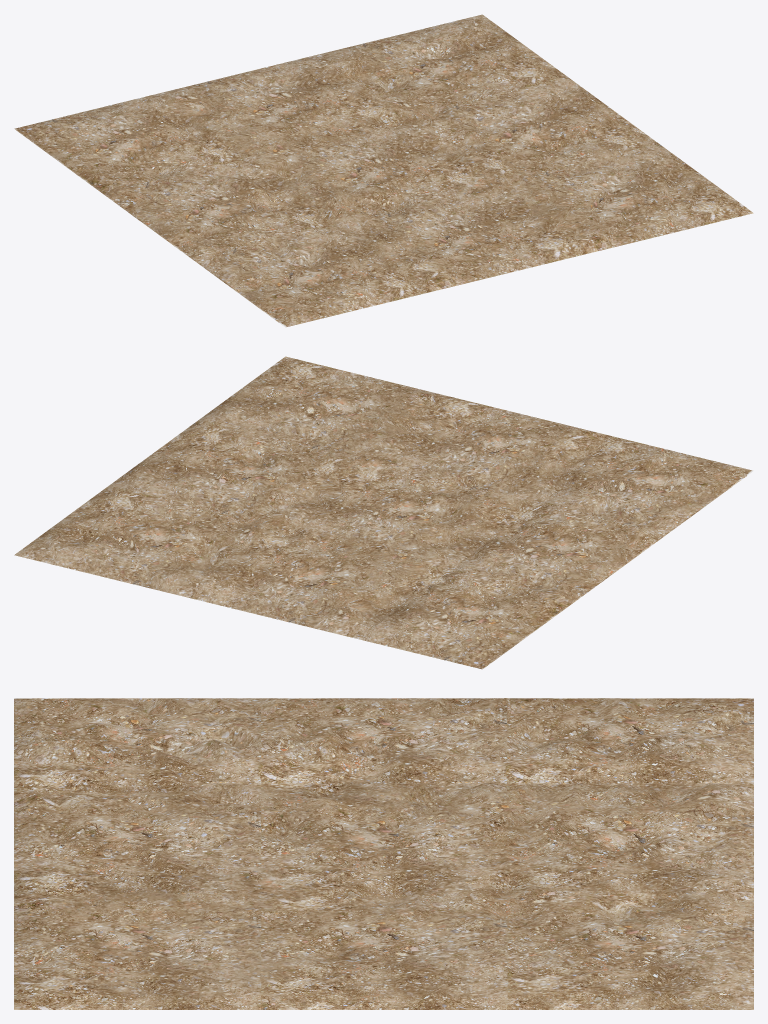
The model's file is wasteland_floor.glb.
The picture shows the model from 3 angles, top to bottom: view 1: azimuth 30°, elevation 25°; view 2: azimuth 150°, elevation 25°; view 3: azimuth 270°, elevation 25°; orthographic projection. The views are drawn at different scales.
Visible parts, largest first — view 1: Object_2; view 2: Object_2; view 3: Object_2.
Boxes of the visible parts, x1,y1,x2,y2 form: Object_2: (14,14,753,327); Object_2: (14,356,753,669); Object_2: (14,698,753,1009).
Size of the model in its own units: 23.9 by 0.7405 by 23.99.
1 material, 1 textured.
